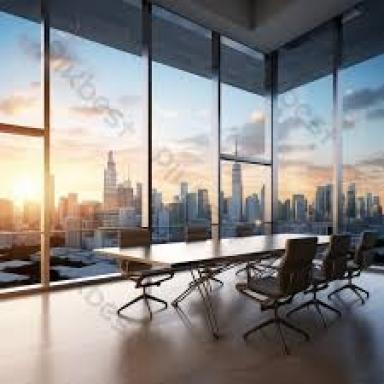glass_panel: (51, 30, 145, 276), (152, 65, 217, 242), (276, 75, 334, 230), (339, 54, 384, 237), (0, 132, 43, 290), (0, 7, 43, 128), (220, 160, 270, 237), (222, 84, 270, 162)
